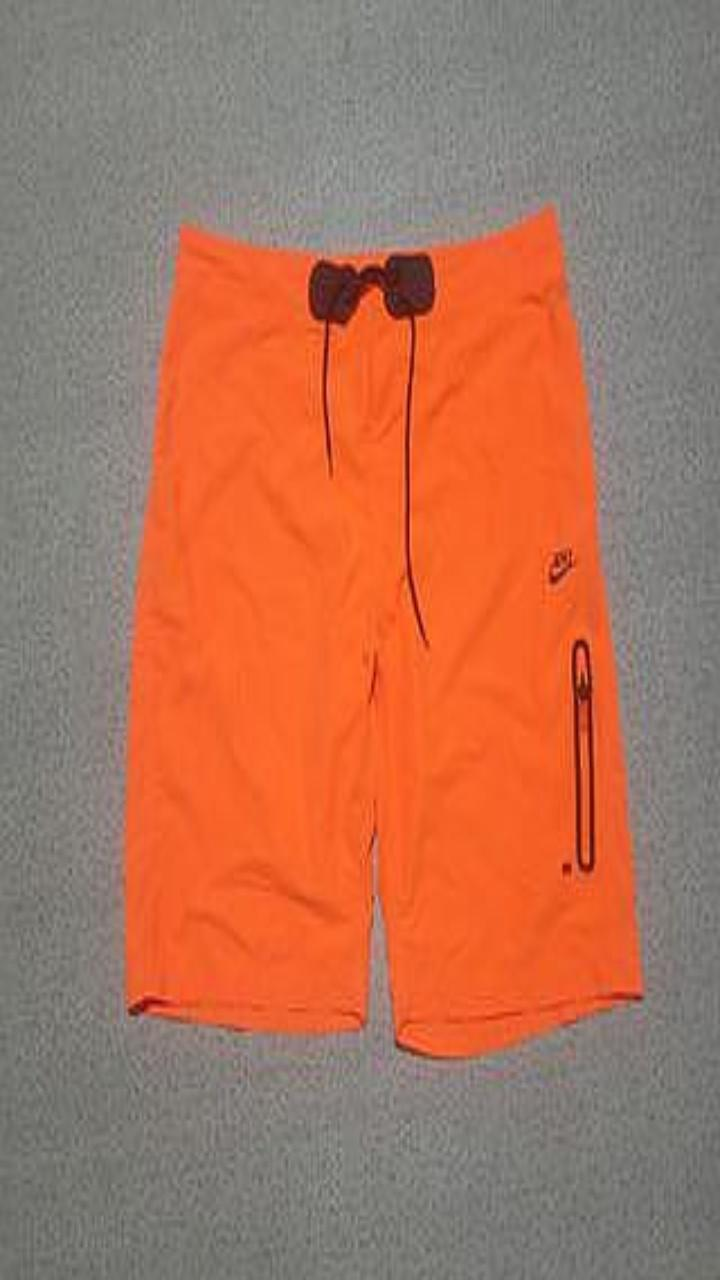Shorts: (125, 206, 642, 1056)
